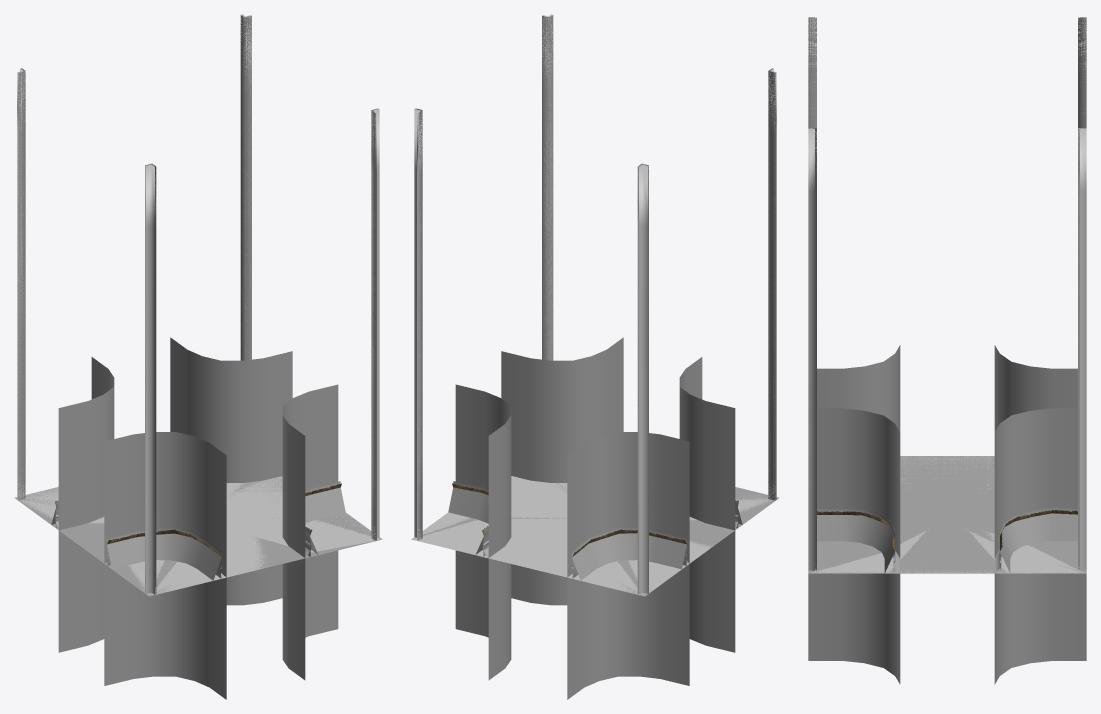
The model's file is cross1.fbx.
3 views of the same model, side by side, from view 1: azimuth 30°, elevation 25°; view 2: azimuth 150°, elevation 25°; view 3: azimuth 270°, elevation 25° (orthographic). The views are drawn at different scales.
Visible parts, largest first — view 1: col_w, col_o, mdl_LOD0, mdl2_LOD0; view 2: col_w, mdl_LOD0, col_o, mdl2_LOD0; view 3: col_w, col_o, mdl_LOD0, mdl2_LOD0.
Boxes of the visible parts, left/top/right/bottom form: col_w: left=58, top=337, right=338, bottom=699; col_o: left=14, top=15, right=382, bottom=596; mdl_LOD0: left=15, top=77, right=382, bottom=596; mdl2_LOD0: left=17, top=14, right=379, bottom=556; col_w: left=455, top=337, right=735, bottom=699; mdl_LOD0: left=412, top=77, right=778, bottom=596; col_o: left=411, top=15, right=779, bottom=596; mdl2_LOD0: left=414, top=14, right=776, bottom=556; col_w: left=808, top=345, right=1086, bottom=684; col_o: left=808, top=17, right=1086, bottom=573; mdl_LOD0: left=808, top=81, right=1086, bottom=573; mdl2_LOD0: left=808, top=17, right=1086, bottom=550.
Size of what is drawn, in the model's own units: 1600 by 3600 by 1600.
